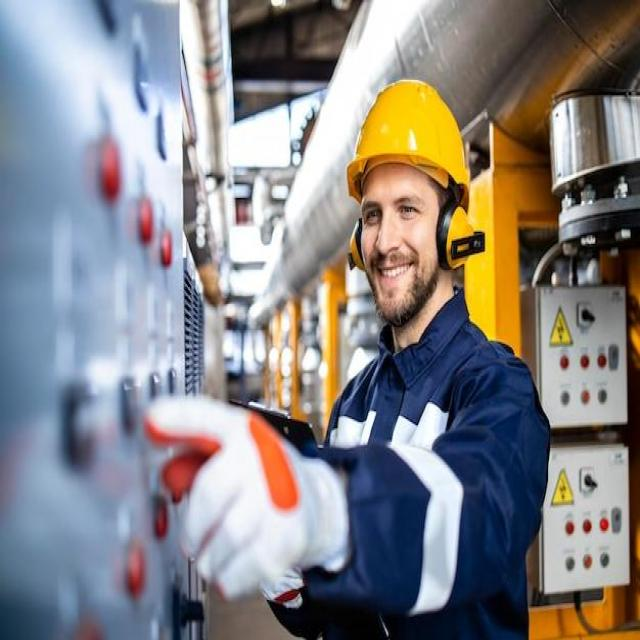Reflective-Jacket: (327, 298, 551, 638)
Safety-Helmet: (342, 75, 476, 203)
